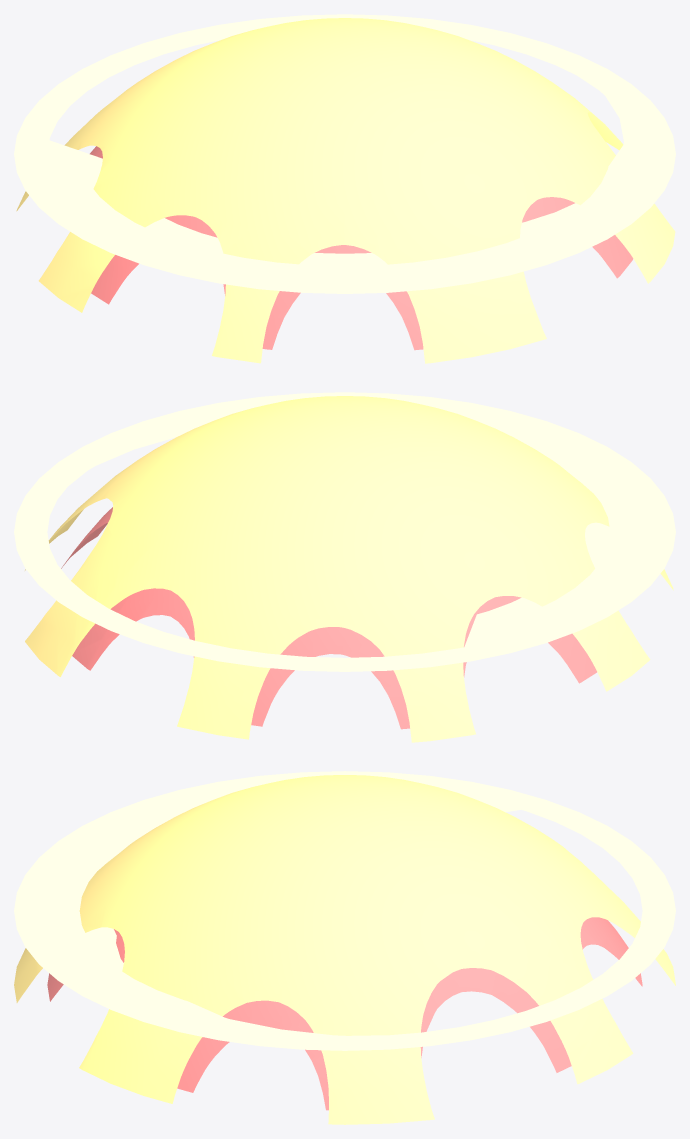
File: Dome 2.glb
3 views of the same model, one above another, from view 1: azimuth 30°, elevation 25°; view 2: azimuth 150°, elevation 25°; view 3: azimuth 270°, elevation 25° (orthographic).
Parts seen in each view (by area): view 1: Model1; view 2: Model1; view 3: Model1.
Part boxes in pixels (<box>): Model1: <box>14,14,675,363</box>; Model1: <box>14,392,675,742</box>; Model1: <box>14,771,675,1124</box>.
Size of the model in its own units: 40.04 by 11.8 by 40.04.
